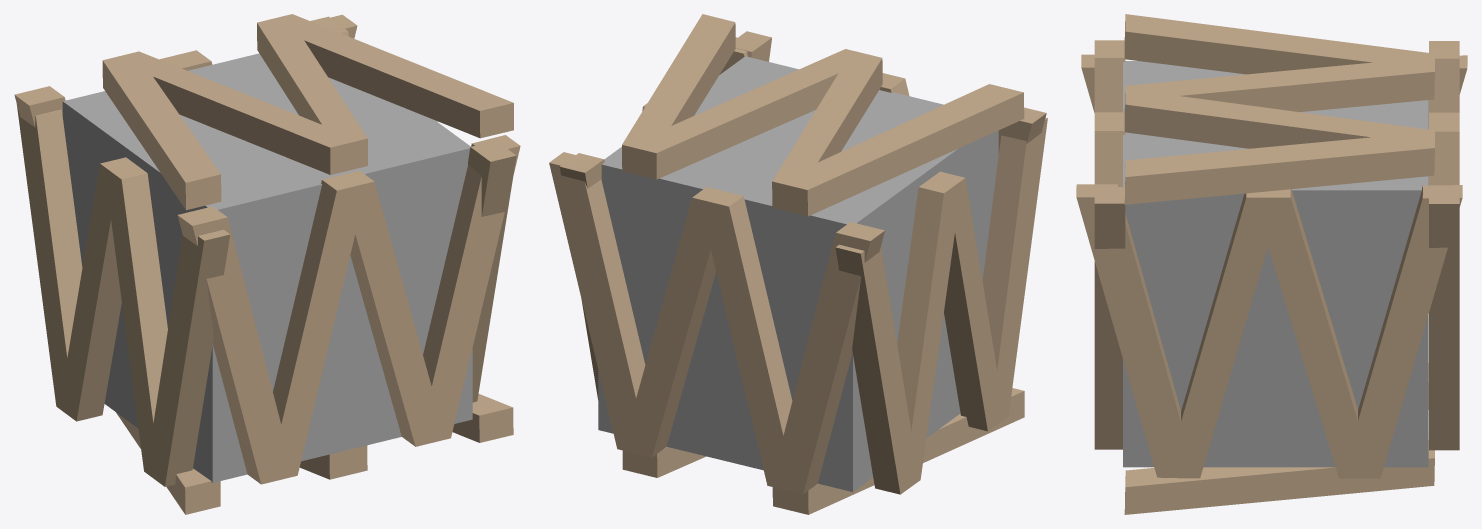
The model's file is LetterW.fbx.
The picture shows the model from 3 angles, left to right: view 1: azimuth 30°, elevation 25°; view 2: azimuth 150°, elevation 25°; view 3: azimuth 270°, elevation 25°; orthographic projection. The views are drawn at different scales.
Parts seen in each view (by area): view 1: Box, Text Front, Text Left, Text Top, Text Bottom, Text Right, Text Back; view 2: Box, Text Back, Text Left, Text Top, Text Bottom, Text Right, Text Front; view 3: Box, Text Top, Text Right, Text Back, Text Front, Text Bottom, Text Left.
Boxes of the visible parts, <box> form: Box: <box>62,53,472,482</box>; Text Front: <box>177,135,520,484</box>; Text Left: <box>16,104,230,486</box>; Text Top: <box>102,14,513,210</box>; Text Bottom: <box>116,394,513,514</box>; Text Right: <box>310,16,516,402</box>; Text Back: <box>14,14,357,127</box>; Box: <box>598,56,998,491</box>; Text Back: <box>549,152,884,494</box>; Text Left: <box>835,118,1047,494</box>; Text Top: <box>622,14,1024,216</box>; Text Bottom: <box>622,388,1024,514</box>; Text Right: <box>559,31,771,399</box>; Text Front: <box>719,37,1046,153</box>; Box: <box>1123,61,1428,467</box>; Text Top: <box>1124,14,1434,204</box>; Text Right: <box>1076,184,1462,478</box>; Text Back: <box>1429,41,1459,450</box>; Text Front: <box>1094,40,1125,449</box>; Text Bottom: <box>1124,363,1434,514</box>; Text Left: <box>1081,54,1467,184</box>.
Size of the model in its own units: 1.29 by 1.24 by 1.28.
